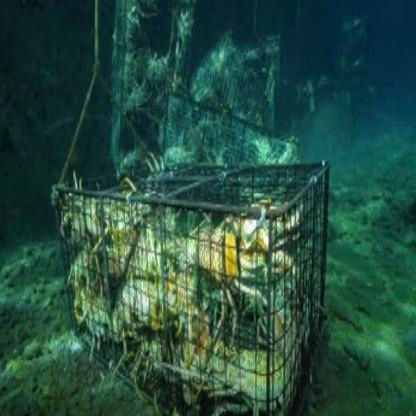metal: (30, 165, 377, 416)
net: (109, 27, 287, 166)
